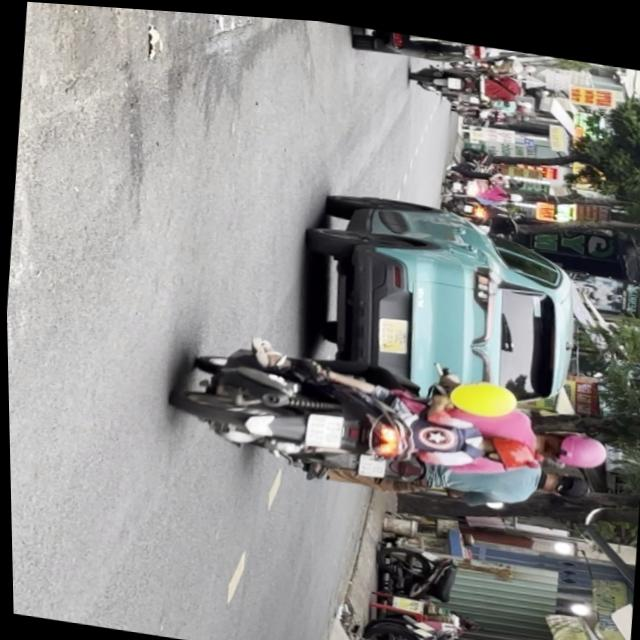helmet: (532, 417, 608, 467), (476, 424, 542, 469)
licenseplate: (165, 322, 615, 507), (262, 414, 598, 521)
motorcyclist: (537, 460, 593, 495)
nohelmet: (303, 409, 342, 445), (357, 449, 385, 474)
